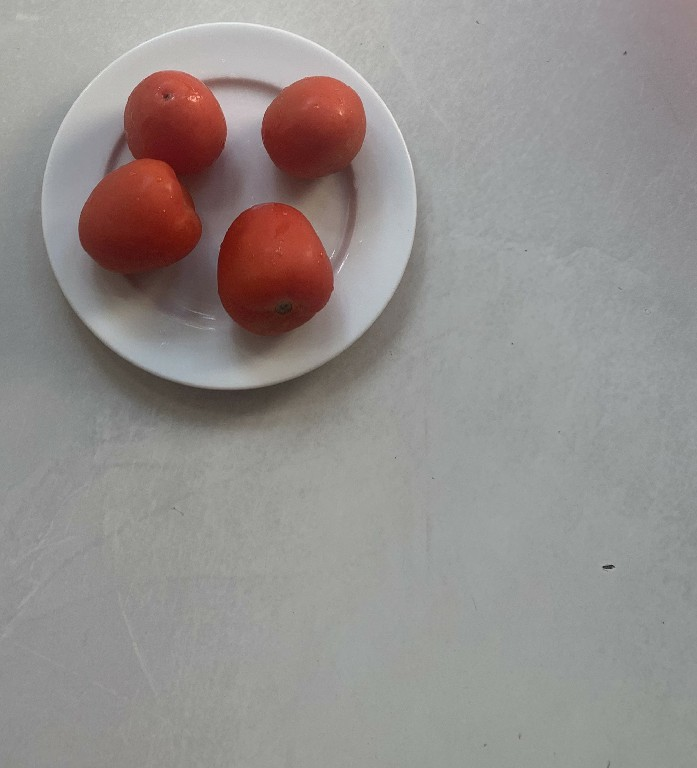OK: (212, 197, 339, 349), (75, 156, 200, 280), (257, 72, 370, 182), (119, 69, 232, 171)
